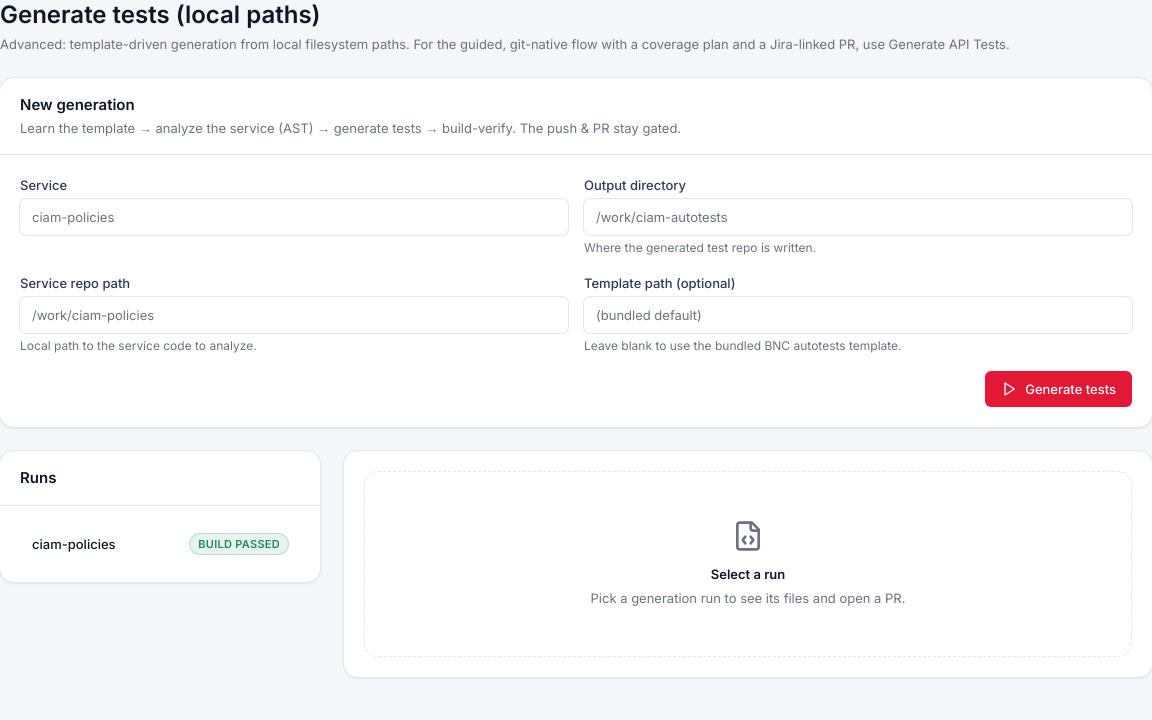
Test: Codegen — Generate tests workspace › blocks publishing with a toast when the repo slug is empty
Click the text "ciam-policies": (74, 544) x1=32 y1=534 x2=116 y2=554
(page scrolled)
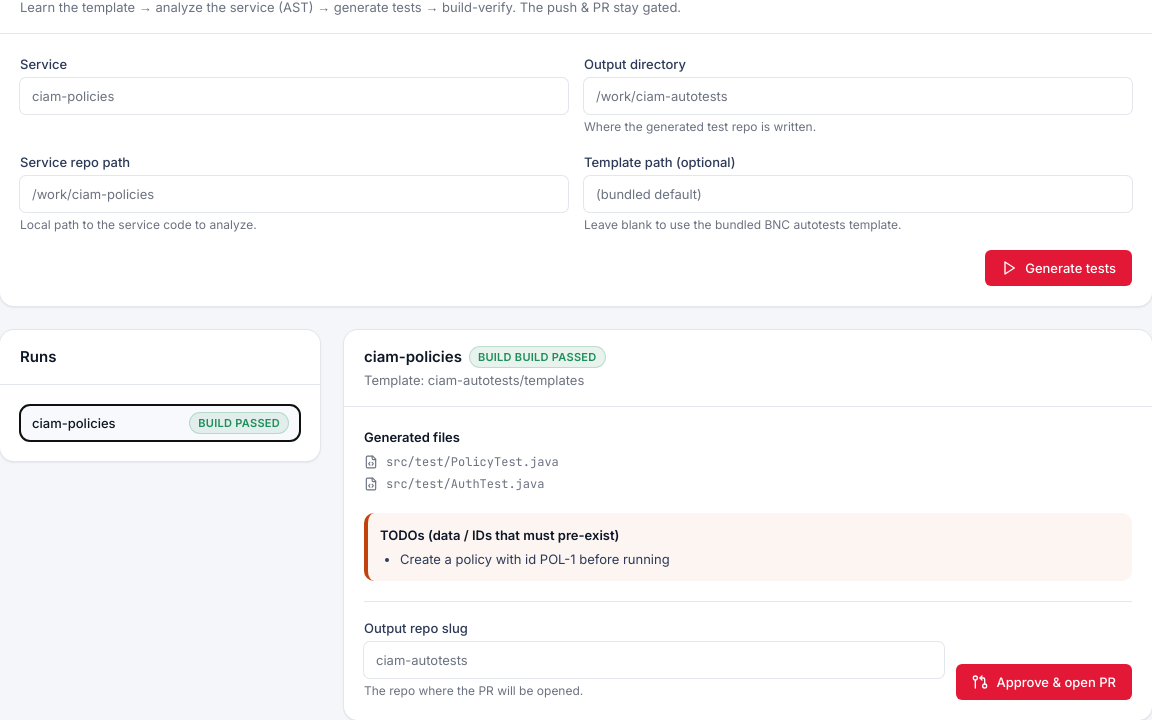
Click the button "Approve & open PR": (1044, 682) x1=956 y1=664 x2=1132 y2=700
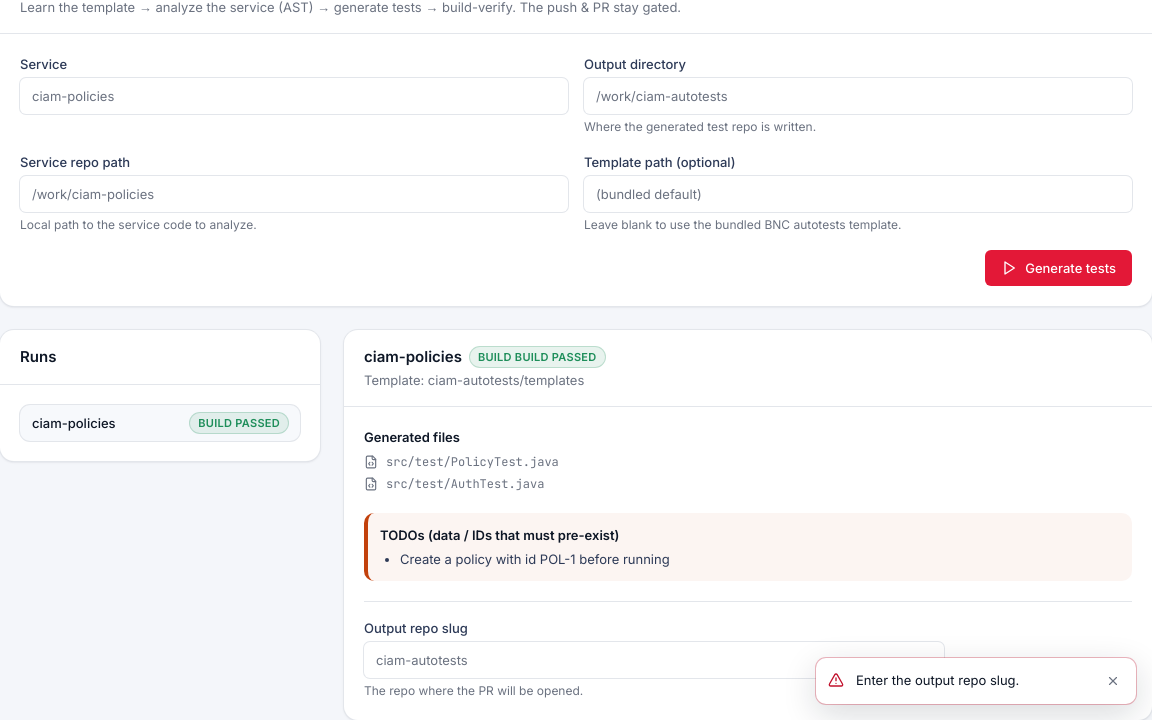
Result: the text "Enter the output repo slug." is shown at x1=856 y1=672 x2=1019 y2=688
